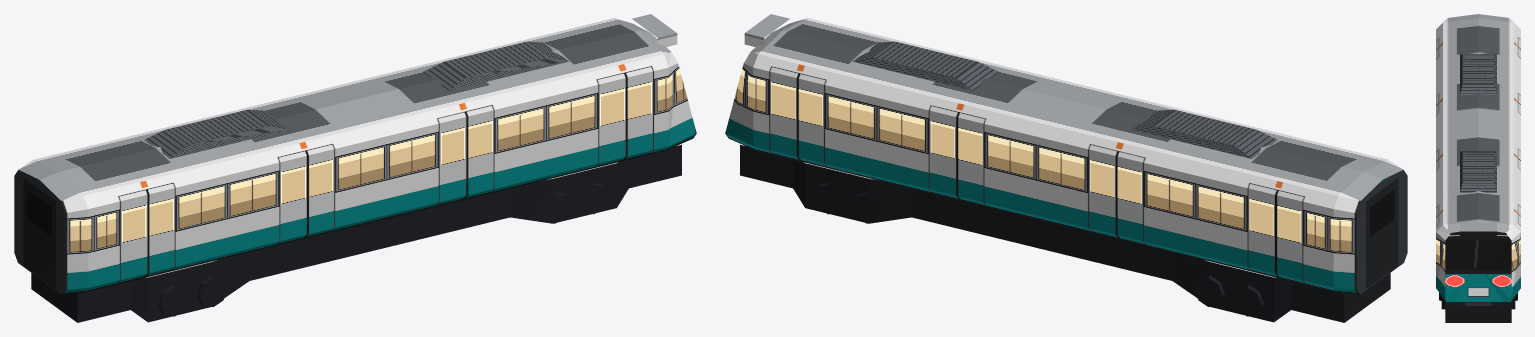
Rendered from pneumatic_generic__neutral__tail.glb.
The picture shows the model from 3 angles, left to right: view 1: azimuth 30°, elevation 25°; view 2: azimuth 150°, elevation 25°; view 3: azimuth 270°, elevation 25°; orthographic projection. The views are drawn at different scales.
Parts seen in each view (by area): view 1: pneumatic_generic__neutral__tail; view 2: pneumatic_generic__neutral__tail; view 3: pneumatic_generic__neutral__tail.
Part boxes in pixels (bbox=[...]): pneumatic_generic__neutral__tail: bbox=[14, 14, 696, 322]; pneumatic_generic__neutral__tail: bbox=[725, 14, 1407, 322]; pneumatic_generic__neutral__tail: bbox=[1436, 14, 1520, 322].
Bounding box in the file's own units: 15.06 × 3.47 × 2.44.
Materials: 1 (1 with a texture image).
